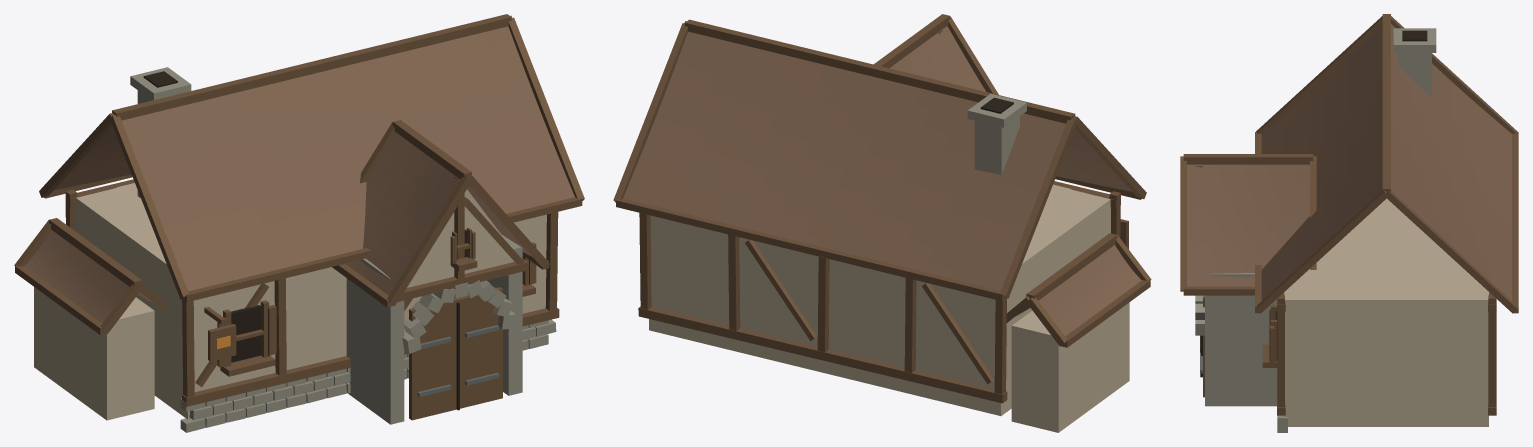
The model's file is hearth_lodge_authored.glb.
3 views of the same model, side by side, from view 1: azimuth 30°, elevation 25°; view 2: azimuth 150°, elevation 25°; view 3: azimuth 270°, elevation 25° (orthographic). The views are drawn at different scales.
Visible parts, largest first — view 1: hearth_lodge_authored; view 2: hearth_lodge_authored; view 3: hearth_lodge_authored.
Part boxes in pixels (box(x1,y1,x2,y2)): hearth_lodge_authored: box(14, 14, 584, 432); hearth_lodge_authored: box(613, 14, 1151, 432); hearth_lodge_authored: box(1180, 14, 1518, 432).
Size of the model in its own units: 10.25 by 6.36 by 7.44.
